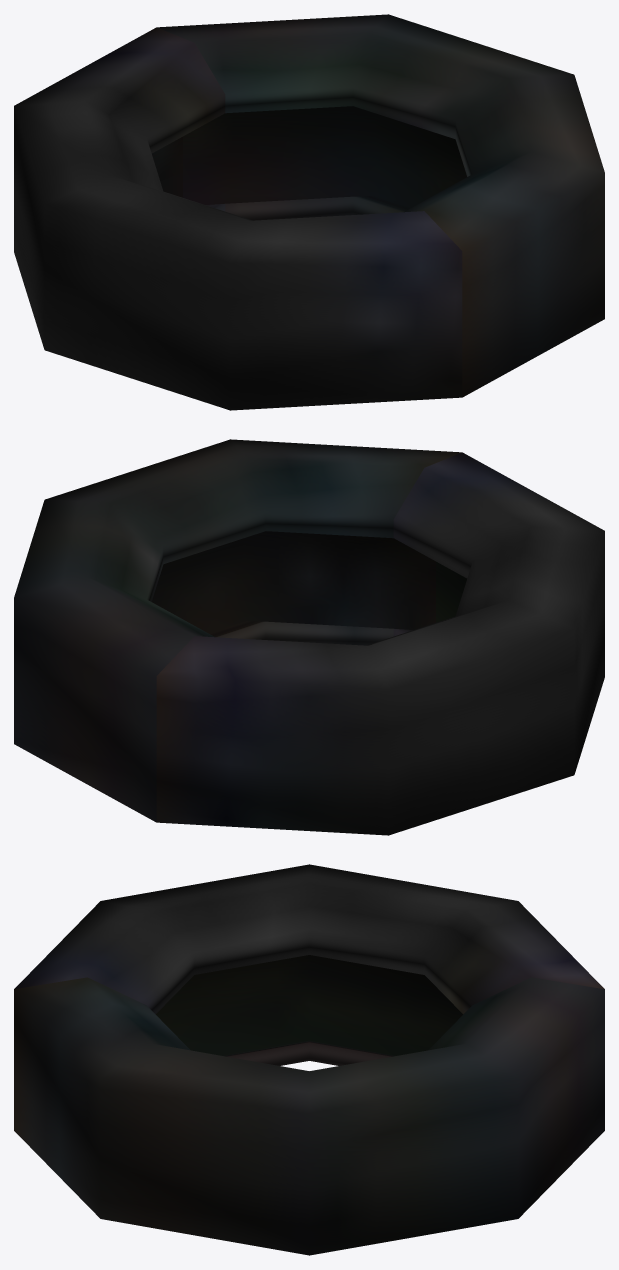
Rendered from Rubber2.fbx.
3 renders of one model, top to bottom at view 1: azimuth 30°, elevation 25°; view 2: azimuth 150°, elevation 25°; view 3: azimuth 270°, elevation 25°, orthographic. The views are drawn at different scales.
Visible parts, largest first — view 1: Rubber2; view 2: Rubber2; view 3: Rubber2.
Boxes of the visible parts, box(x1,y1,x2,y2) form: Rubber2: box(14, 14, 604, 410); Rubber2: box(14, 439, 604, 835); Rubber2: box(14, 864, 604, 1255).
Bounding box in the file's own units: 0.701 × 0.2279 × 0.701.
1 material, 1 textured.
